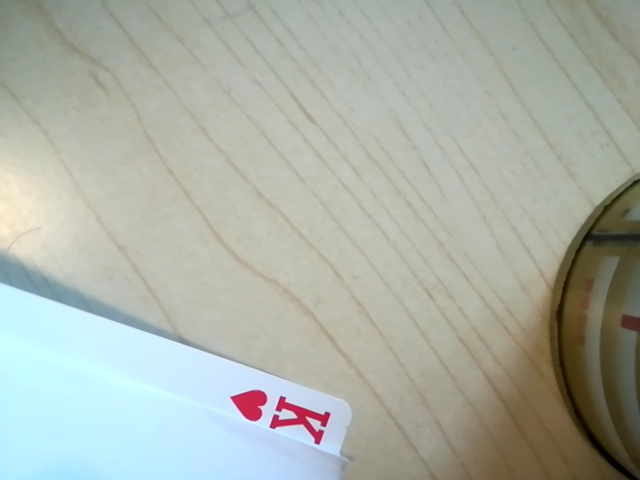hx k: (227, 382, 346, 452)
